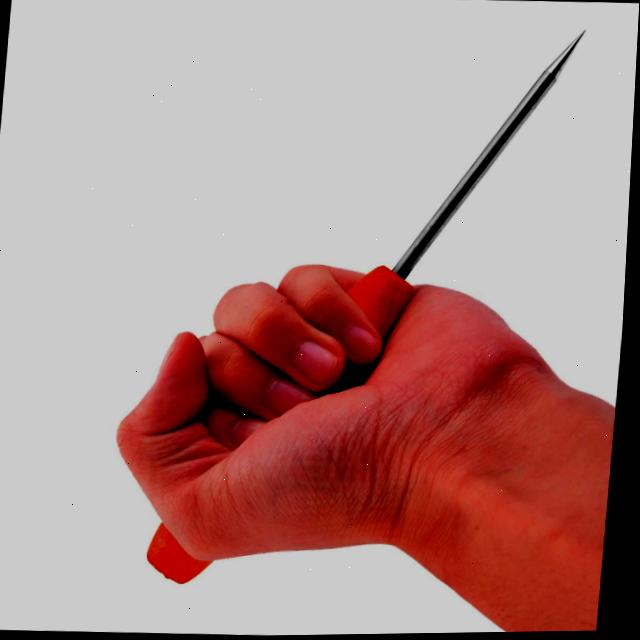ice pick: (149, 18, 587, 595)
